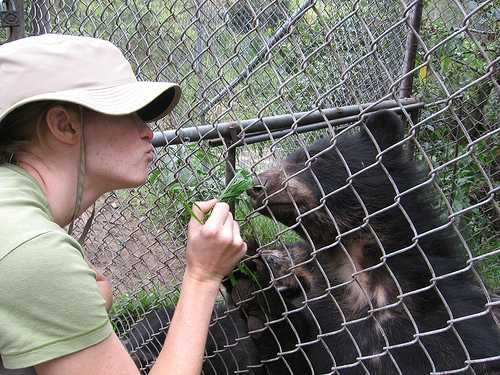bear: (240, 116, 368, 244)
